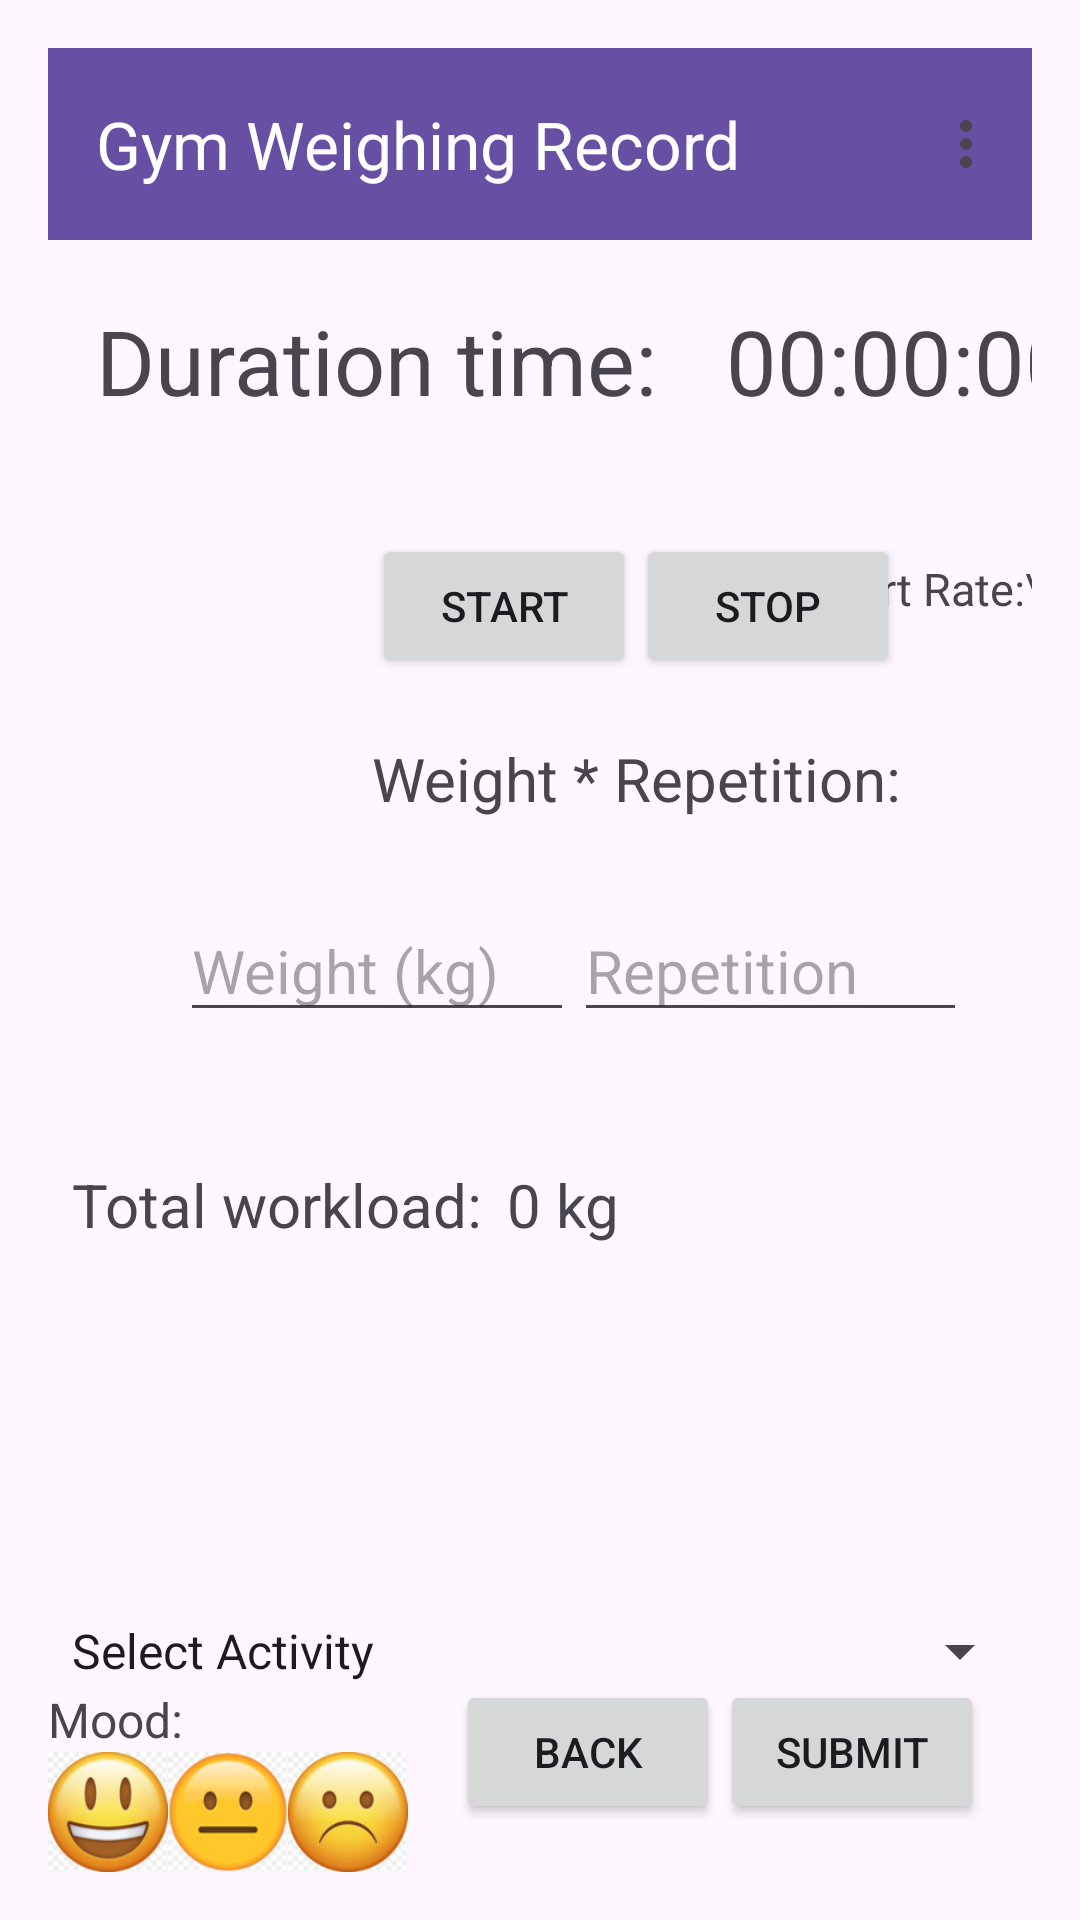

Where to tap for icons on this 1080 x 1920 app screen, as (x=x, y=y):
bad: (x=348, y=1812)
happy: (x=108, y=1812)
neutral: (x=228, y=1812)
